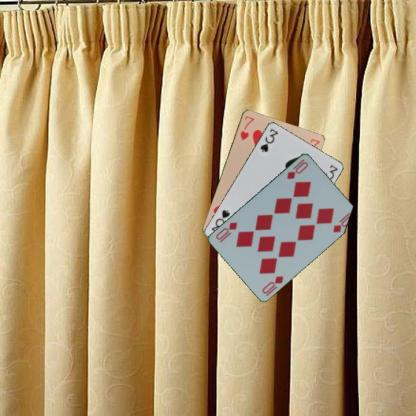10d: (284, 156, 309, 180), (260, 273, 284, 297)
3s: (258, 126, 279, 153)
7h: (237, 113, 256, 142)
